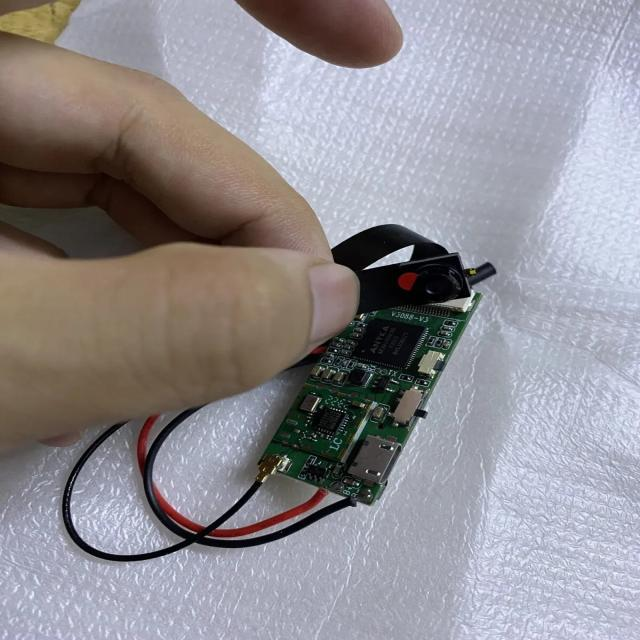hidden camera: (413, 273, 455, 302)
